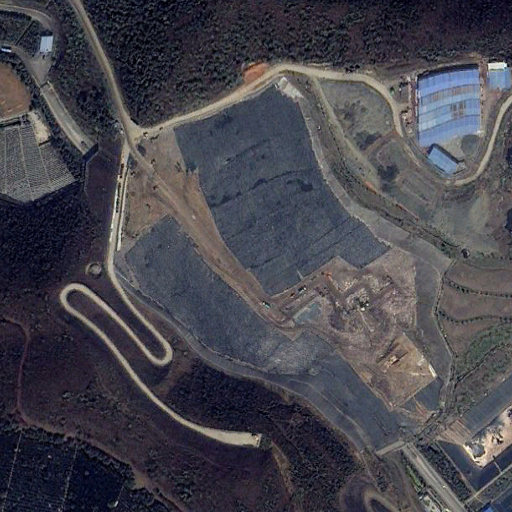lf: (116, 77, 454, 449)
